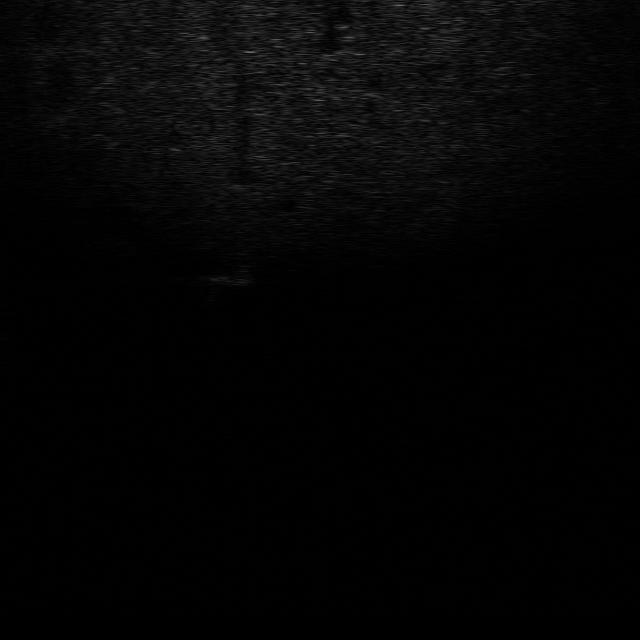human body: (208, 248, 252, 306)
